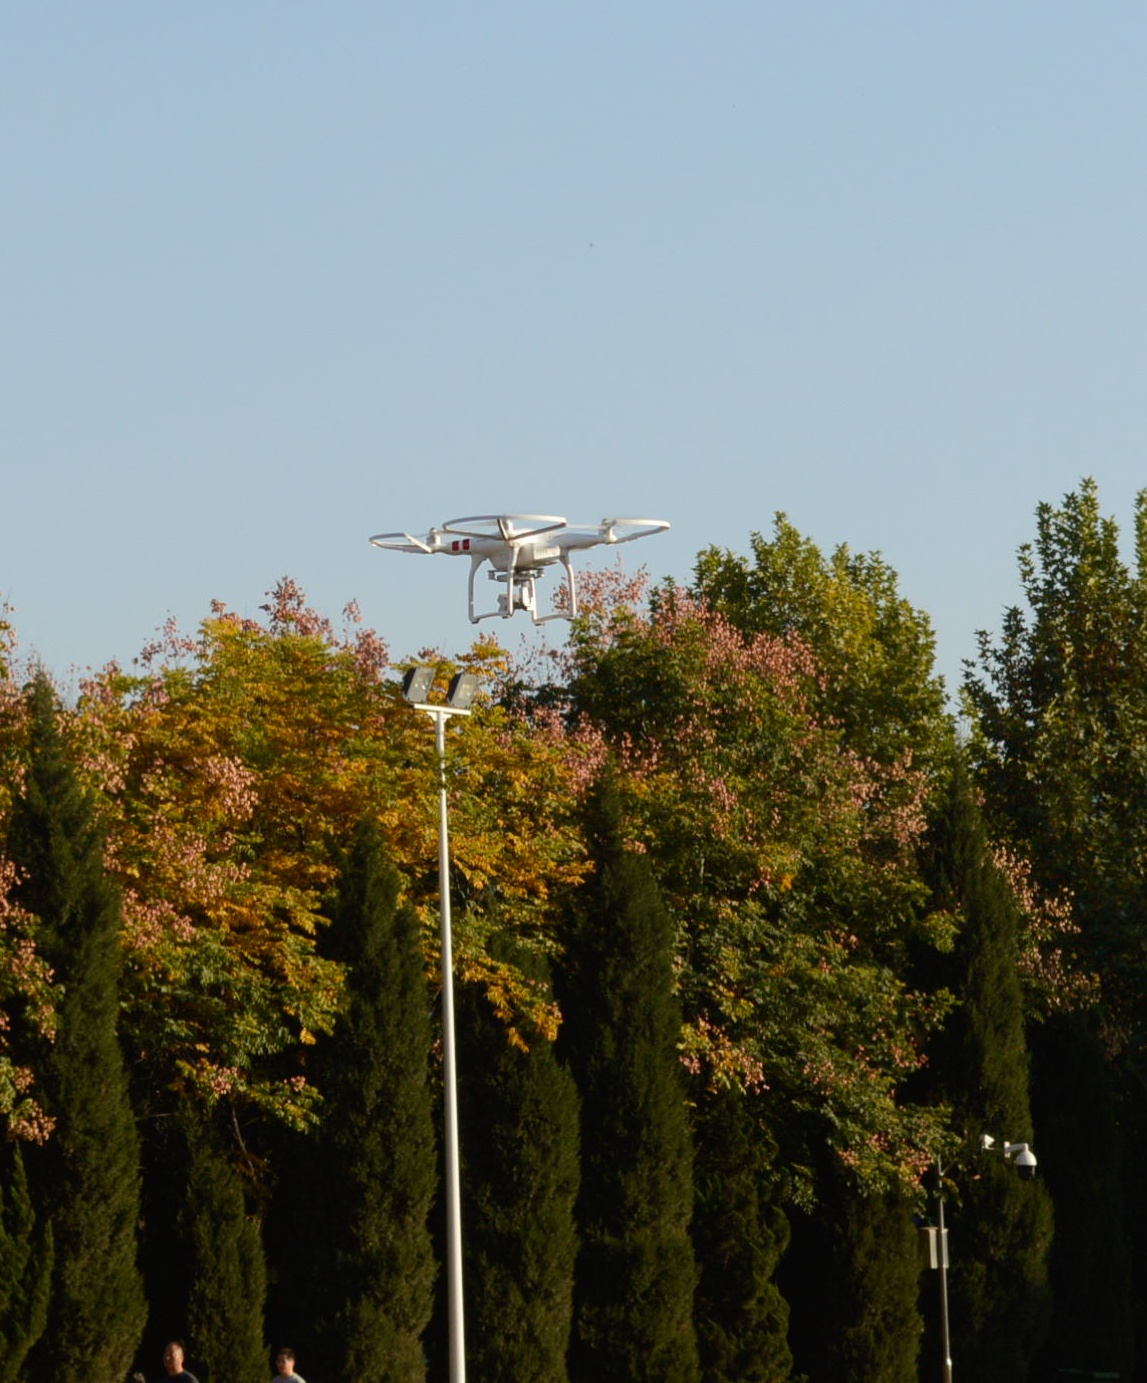DJI: (367, 507, 669, 623)
